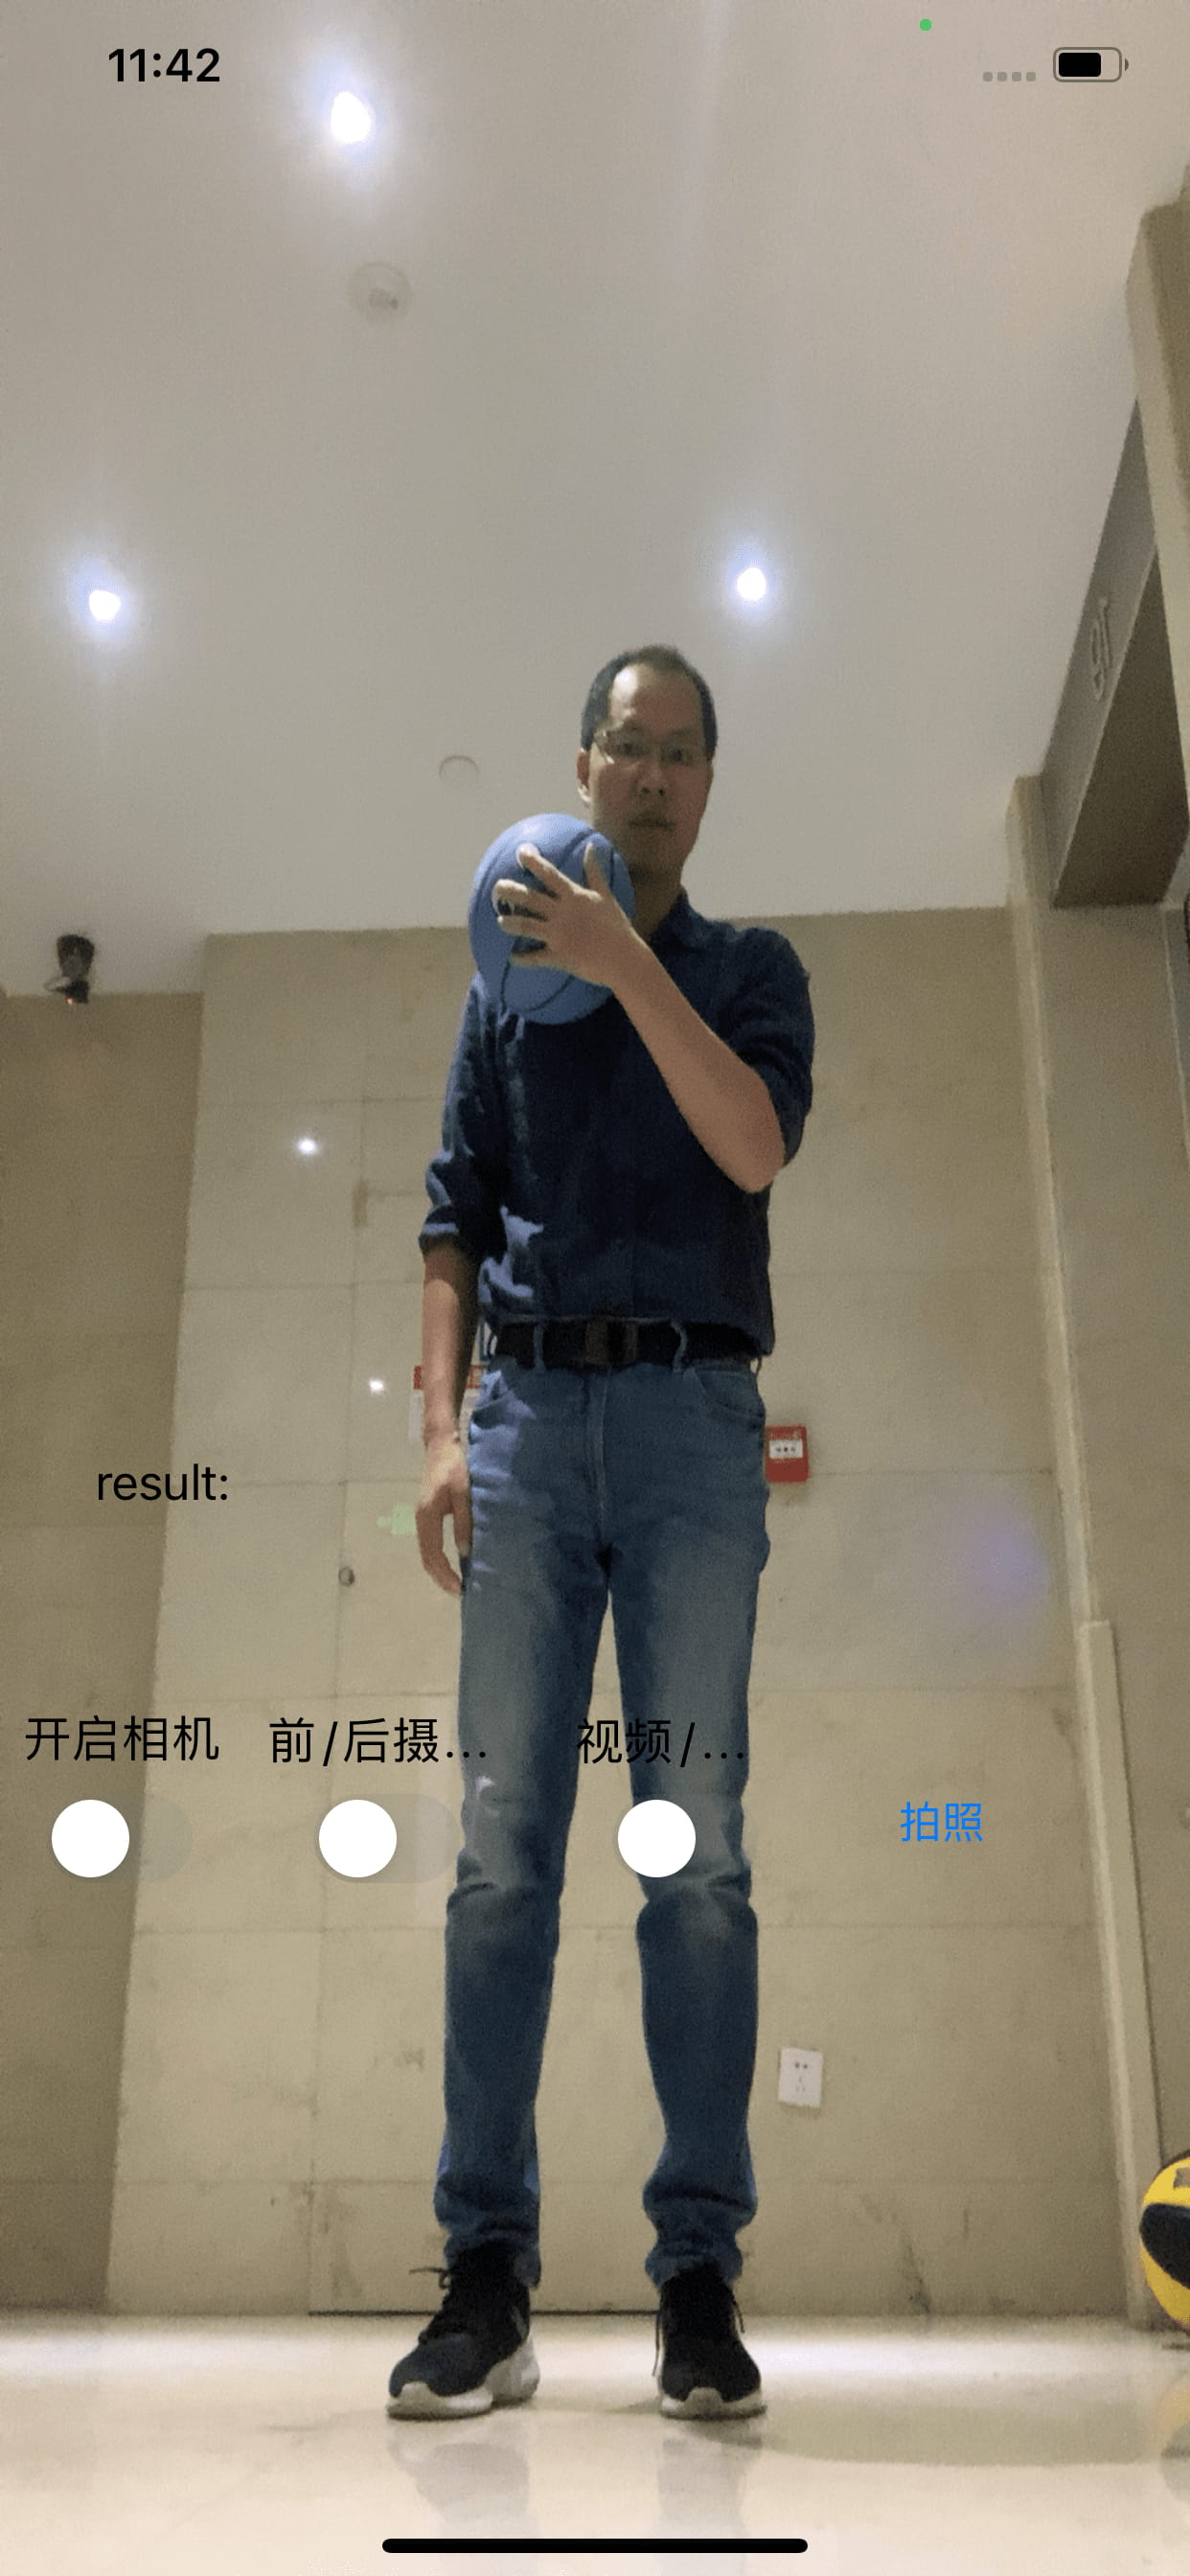ball: (475, 812, 633, 1025)
